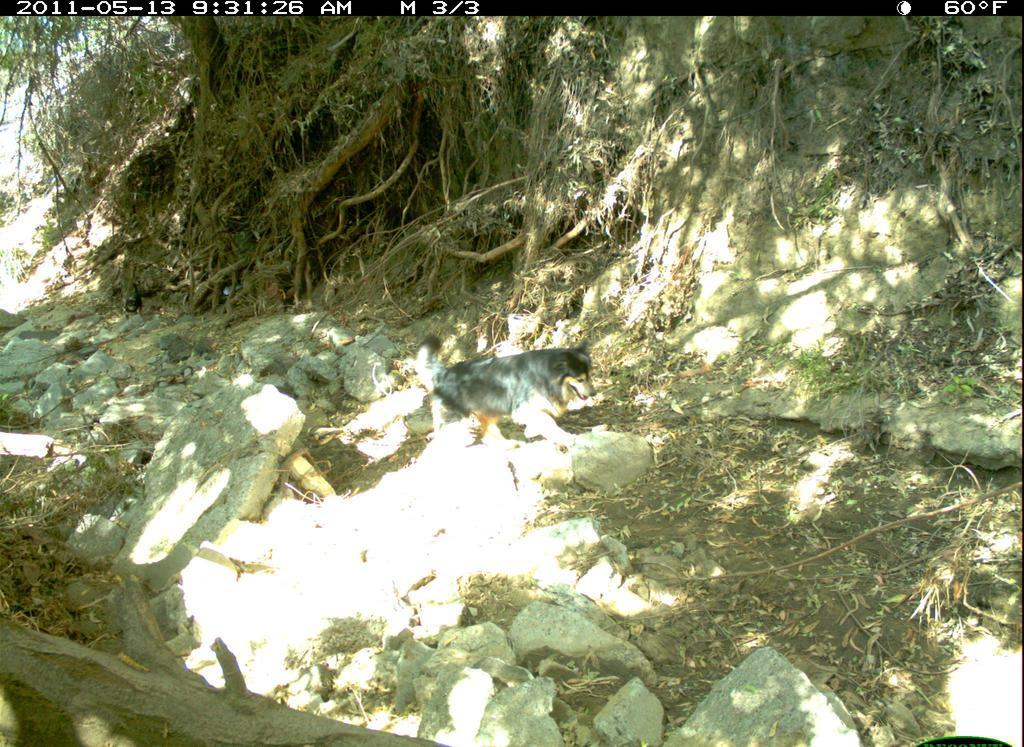dog: (404, 326, 611, 455)
